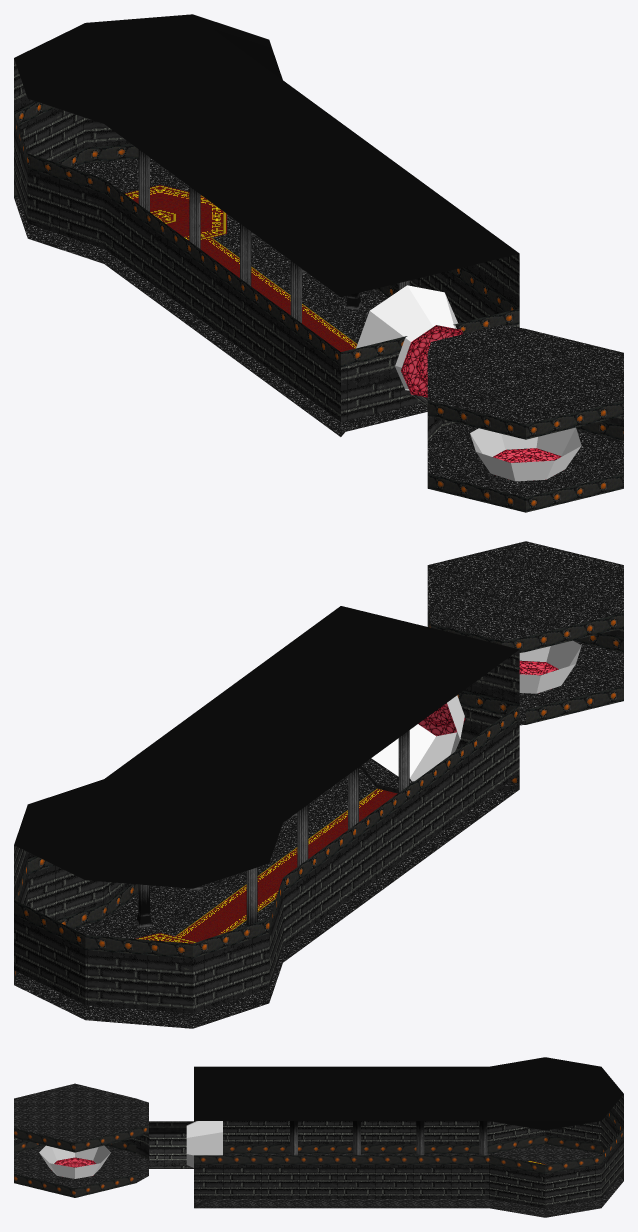
File: Secret Ending Gothic.obj
3 views of the same model, one above another, from view 1: azimuth 30°, elevation 25°; view 2: azimuth 150°, elevation 25°; view 3: azimuth 270°, elevation 25° (orthographic). The views are drawn at different scales.
Visible parts, largest first — view 1: mesh__13, mesh__8, mesh__10, mesh__14, mesh__12, mesh__7, mesh__4, mesh__11; view 2: mesh__13, mesh__10, mesh__8, mesh__14, mesh__7, mesh__12, mesh__4, mesh__11; view 3: mesh__10, mesh__13, mesh__8, mesh__14, mesh__12, mesh__4, mesh__11.
Boxes of the visible parts, x1=… form: mesh__13: x1=14, y1=14, x2=519, y2=296; mesh__8: x1=14, y1=158, x2=623, y2=497; mesh__10: x1=14, y1=58, x2=623, y2=440; mesh__14: x1=14, y1=101, x2=623, y2=512; mesh__12: x1=356, y1=285, x2=581, y2=481; mesh__7: x1=125, y1=185, x2=357, y2=351; mesh__4: x1=138, y1=149, x2=409, y2=323; mesh__11: x1=401, y1=325, x2=561, y2=462; mesh__13: x1=14, y1=606, x2=519, y2=888; mesh__10: x1=14, y1=628, x2=623, y2=1013; mesh__8: x1=14, y1=541, x2=623, y2=1028; mesh__14: x1=14, y1=613, x2=623, y2=984; mesh__7: x1=135, y1=788, x2=397, y2=943; mesh__12: x1=371, y1=640, x2=581, y2=781; mesh__4: x1=136, y1=730, x2=409, y2=927; mesh__11: x1=418, y1=660, x2=558, y2=736; mesh__10: x1=14, y1=1094, x2=623, y2=1208; mesh__13: x1=194, y1=1057, x2=623, y2=1130; mesh__8: x1=14, y1=1083, x2=623, y2=1217; mesh__14: x1=14, y1=1111, x2=623, y2=1197; mesh__12: x1=39, y1=1121, x2=222, y2=1178; mesh__4: x1=290, y1=1121, x2=487, y2=1199; mesh__11: x1=51, y1=1157, x2=95, y2=1175.
Size of the model in its own units: 2064 by 1144 by 7247.
Materials: 8 (8 with a texture image).
